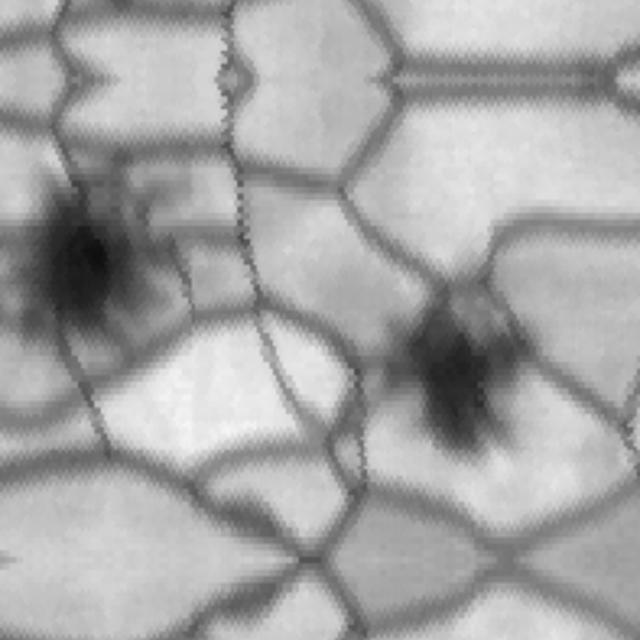good_void: (360, 274, 609, 478), (5, 144, 239, 358), (196, 483, 298, 556), (196, 563, 298, 636)
